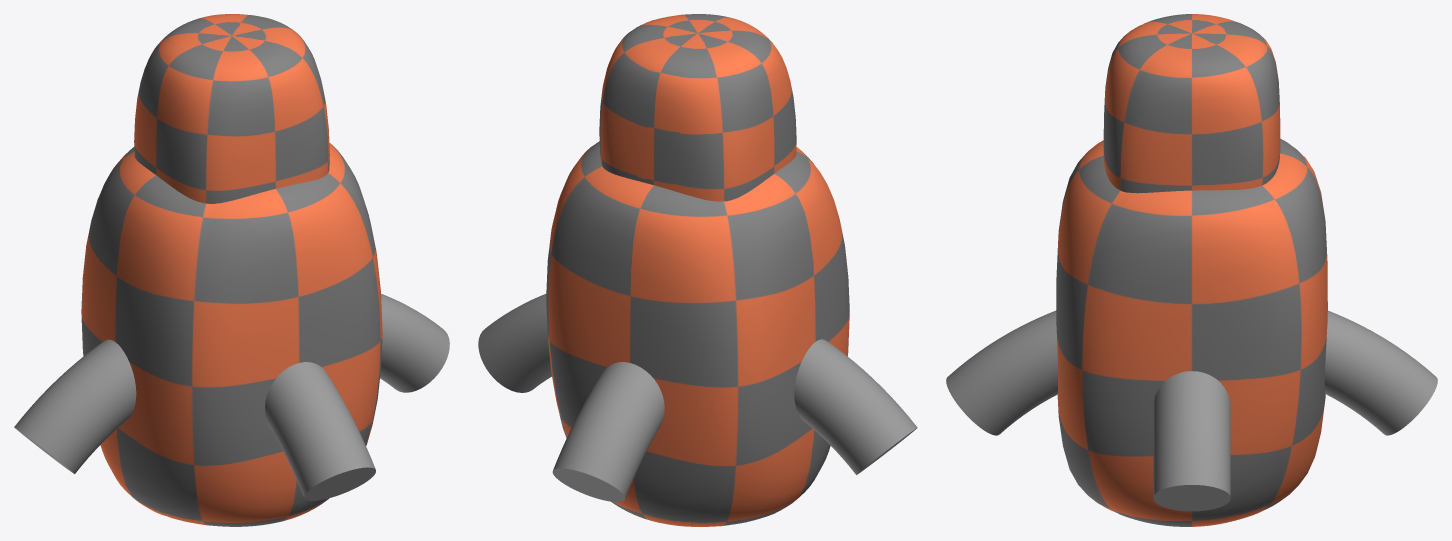
The model's file is Body(Oblong)+Colour(More_Orange)+Pattern(Checkered)+Arm_Angle(Bent_Down)+Hat(Oblong).fbx.
The picture shows the model from 3 angles, left to right: view 1: azimuth 30°, elevation 25°; view 2: azimuth 150°, elevation 25°; view 3: azimuth 270°, elevation 25°; orthographic projection.
Visible parts, largest first — view 1: Body(Oblong)+Colour(More_Orange)+Pattern(Checkered)+Arm_Angl (×5); view 2: Body(Oblong)+Colour(More_Orange)+Pattern(Checkered)+Arm_Angl (×5); view 3: Body(Oblong)+Colour(More_Orange)+Pattern(Checkered)+Arm_Angl (×5).
Boxes of the visible parts, bbox=[...] form: Body(Oblong)+Colour(More_Orange)+Pattern(Checkered)+Arm_Angl (×5): bbox=[14, 14, 449, 526]; Body(Oblong)+Colour(More_Orange)+Pattern(Checkered)+Arm_Angl (×5): bbox=[478, 14, 917, 526]; Body(Oblong)+Colour(More_Orange)+Pattern(Checkered)+Arm_Angl (×5): bbox=[946, 14, 1437, 526].
Bounding box in the file's own units: 50.67 × 53 × 50.67.
2 materials, 1 textured.
